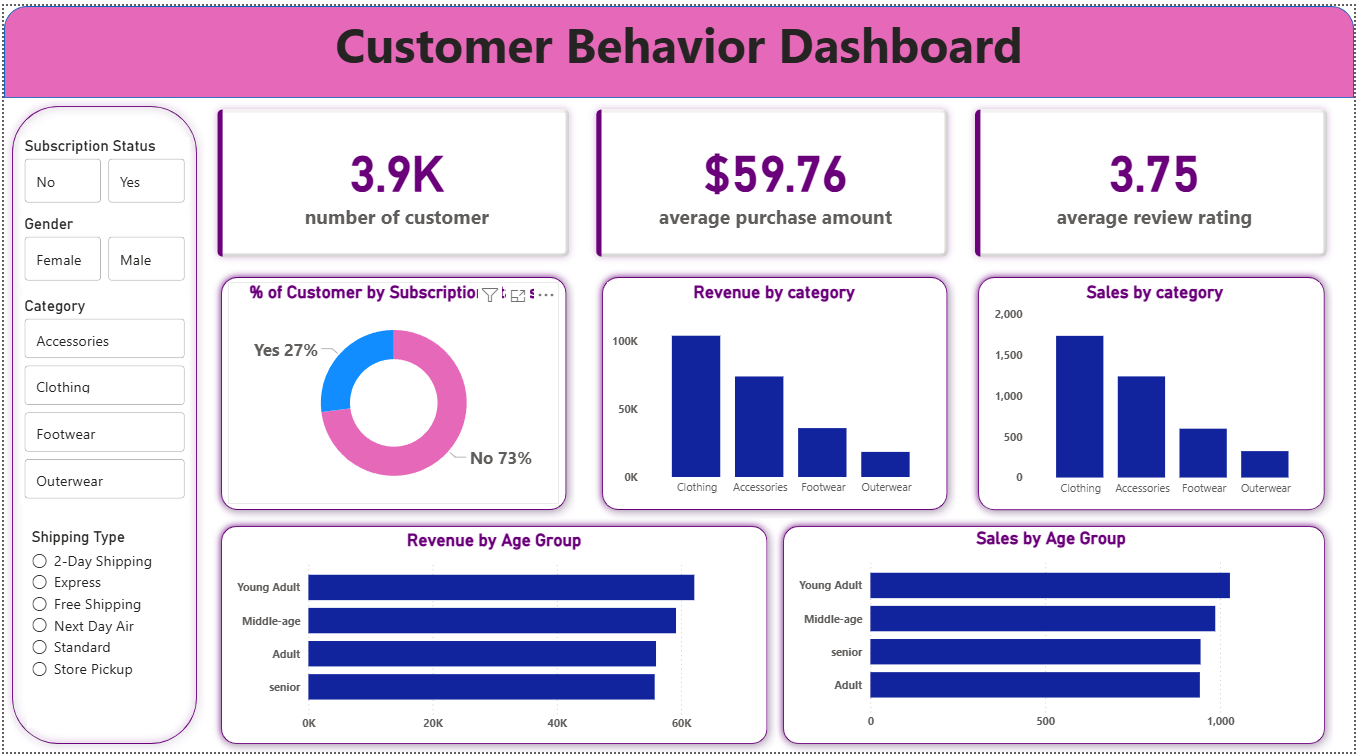

The page's visual inventory and layout, read from the dashboard file:
{"tool":"powerbi","page":{"name":"Page 1","canvas":[1500,829],"ordinal":0},"visuals":[{"type":"cardVisual","fields":{"Data":["public customer.number of customer","public customer.average purchase amount","public customer.average review rating"]},"box":[208.9,86.7,1290,220],"z":0},{"type":"shape","box":[0,0,1500,102.2],"z":1000},{"type":"textbox","box":[0,0,1500,85.9],"z":2000},{"type":"shape","box":[231.7,291.7,401.7,276.7],"z":3000},{"type":"donutChart","title":"% of Customer by Subscription status","fields":{"Category":["public customer.subscription_status"],"Y":["CountNonNull(public customer.customer_id)"]},"box":[248.3,306.7,368.3,246.7],"z":4000},{"type":"shape","box":[1073.8,292.3,403.1,276.9],"z":5000},{"type":"shape","box":[655.8,291.7,401.7,276.7],"z":6000},{"type":"clusteredColumnChart","title":"Revenue by category","fields":{"Y":["Sum(public customer.purchase_amount)"],"Category":["public customer.category"]},"box":[670,306.7,371.7,246.7],"z":7000},{"type":"clusteredColumnChart","title":"Sales by category","fields":{"Y":["CountNonNull(public customer.customer_id)"],"Category":["public customer.category"]},"box":[1095.5,306.4,366.4,247.3],"z":8000},{"type":"shape","box":[0,101.7,223.3,726.7],"z":9000},{"type":"advancedSlicerVisual","fields":{"Values":["public customer.subscription_status"]},"box":[17.5,145,188.1,78.1],"z":10000},{"type":"advancedSlicerVisual","fields":{"Values":["public customer.gender"]},"box":[17.5,232.5,188.1,78.8],"z":11000},{"type":"advancedSlicerVisual","fields":{"Values":["public customer.category"]},"box":[17.5,323.8,188.1,230],"z":12000},{"type":"listSlicer","fields":{"Values":["public customer.shipping_type"]},"box":[25,580,163.3,221.7],"z":13000},{"type":"shape","box":[231.7,568.3,625,260],"z":14000},{"type":"shape","box":[856.9,568.5,620,260],"z":15000},{"type":"clusteredBarChart","title":"Sales by Age Group","fields":{"Y":["CountNonNull(public customer.customer_id)"],"Category":["public customer.age_group"]},"box":[876.7,580,573.3,233.3],"z":16000},{"type":"clusteredBarChart","title":"Revenue by Age Group","fields":{"Y":["Sum(public customer.purchase_amount)"],"Category":["public customer.age_group"]},"box":[251.7,581.7,585,233.3],"z":17000}]}

Visuals, with their boxes in screenshot pixels (x1, y1, x2, y2), scaled from the page's 1500x829 canvas onto the 1358x756 screenshot:
cardVisual - public customer.number of customer x public customer.average purchase amount: crop(189, 79, 1357, 280)
shape: crop(0, 0, 1357, 93)
textbox: crop(0, 0, 1357, 78)
shape: crop(210, 266, 573, 518)
"% of Customer by Subscription status" donutChart: crop(225, 280, 558, 505)
shape: crop(972, 267, 1337, 519)
shape: crop(594, 266, 957, 518)
"Revenue by category" clusteredColumnChart: crop(607, 280, 943, 505)
"Sales by category" clusteredColumnChart: crop(992, 279, 1324, 505)
shape: crop(0, 93, 202, 755)
advancedSlicerVisual - public customer.subscription_status: crop(16, 132, 186, 203)
advancedSlicerVisual - public customer.gender: crop(16, 212, 186, 284)
advancedSlicerVisual - public customer.category: crop(16, 295, 186, 505)
listSlicer - public customer.shipping_type: crop(23, 529, 170, 731)
shape: crop(210, 518, 776, 755)
shape: crop(776, 518, 1337, 755)
"Sales by Age Group" clusteredBarChart: crop(794, 529, 1313, 742)
"Revenue by Age Group" clusteredBarChart: crop(228, 530, 757, 743)
